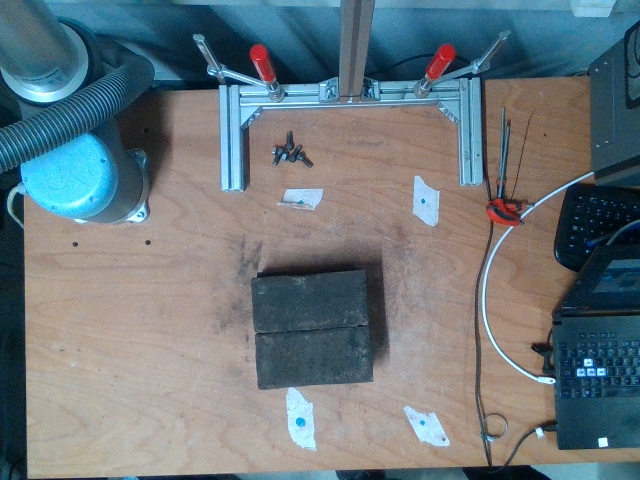brick: (251, 271, 370, 331), (256, 330, 371, 387)
